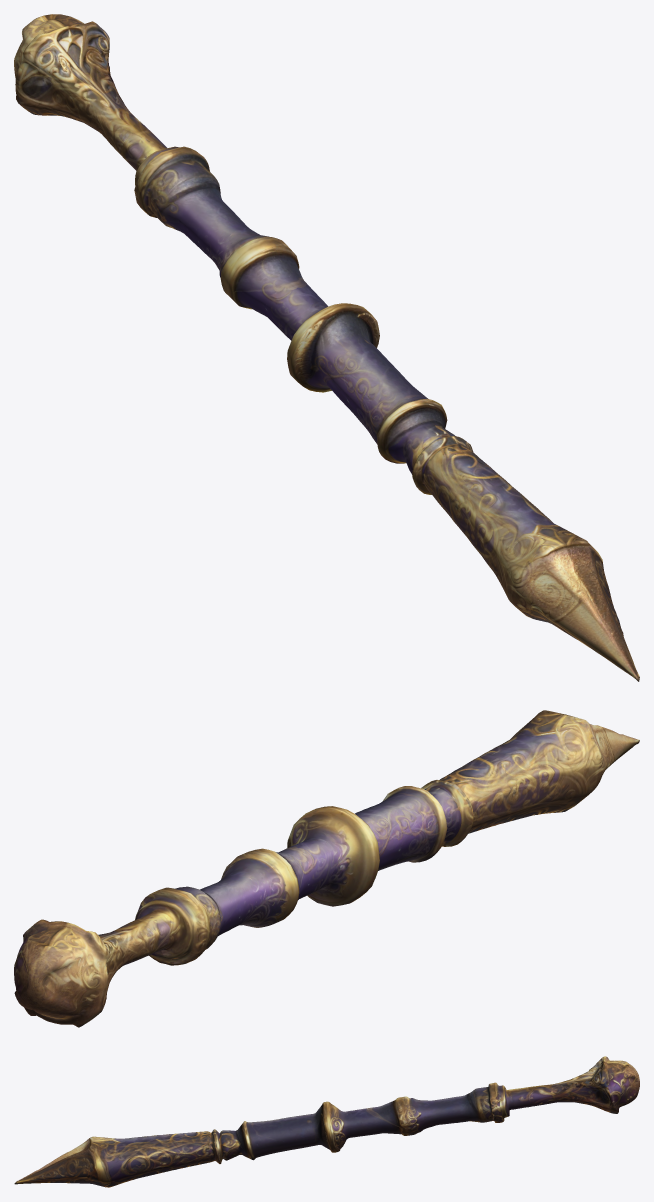
File: stylized_magic_wand_0502101209.fbx
3 renders of one model, top to bottom at view 1: azimuth 30°, elevation 25°; view 2: azimuth 150°, elevation 25°; view 3: azimuth 270°, elevation 25°, orthographic. The views are drawn at different scales.
Parts seen in each view (by area): view 1: Mesh_0; view 2: Mesh_0; view 3: Mesh_0.
Boxes of the visible parts, left/top/right/bottom form: Mesh_0: left=14, top=14, right=639, bottom=681; Mesh_0: left=14, top=710, right=639, bottom=1027; Mesh_0: left=14, top=1056, right=639, bottom=1187.
Bounding box in the file's own units: 17.37 × 43.3 × 200.
Materials: 1 (1 with a texture image).
